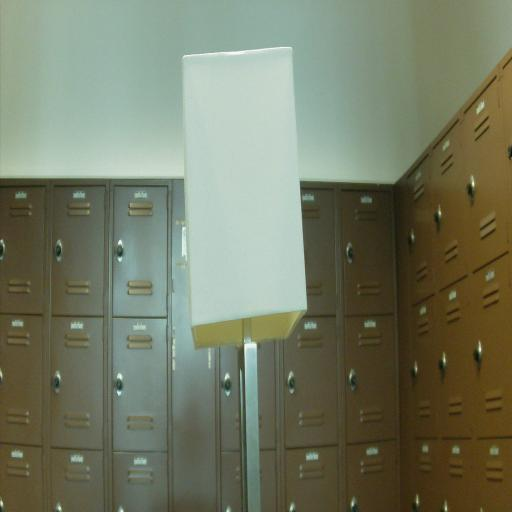lamp: (182, 47, 308, 512)
